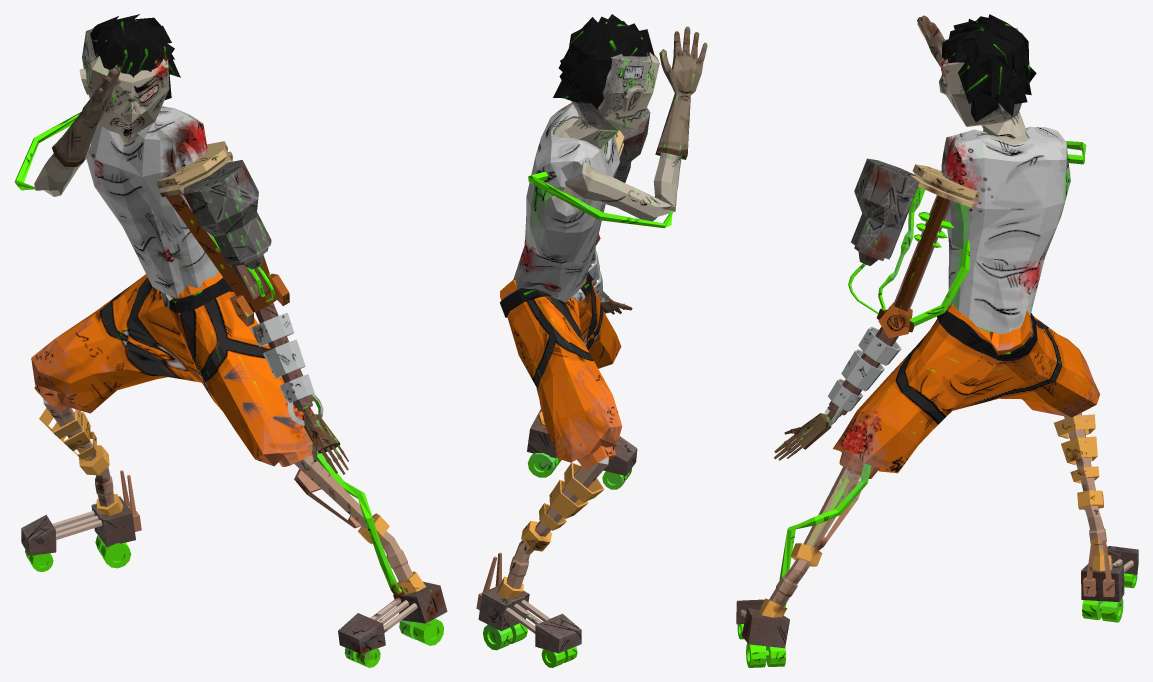
The model's file is CyborgFINALAnimation_000076.obj.
3 renders of one model, left to right at view 1: azimuth 30°, elevation 25°; view 2: azimuth 150°, elevation 25°; view 3: azimuth 270°, elevation 25°, orthographic. The views are drawn at different scales.
Parts seen in each view (by area): view 1: CyborgMesh_Cube.002; view 2: CyborgMesh_Cube.002; view 3: CyborgMesh_Cube.002.
Boxes of the visible parts, x1=… form: CyborgMesh_Cube.002: x1=14, y1=14, x2=447, y2=667; CyborgMesh_Cube.002: x1=476, y1=14, x2=707, y2=667; CyborgMesh_Cube.002: x1=736, y1=14, x2=1138, y2=667.
Bounding box in the file's own units: 4.22 × 8.63 × 5.45.
